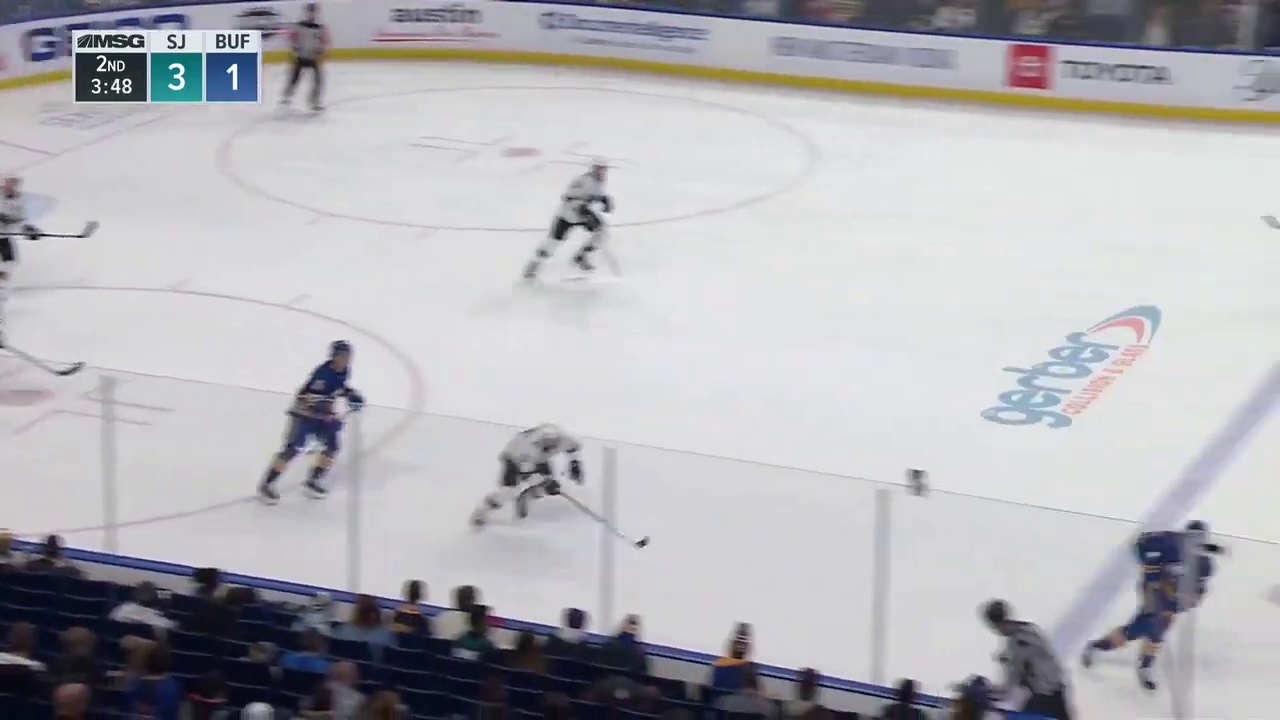hockeyplayer: (1082, 521, 1217, 696), (257, 340, 365, 506), (471, 423, 583, 530), (524, 157, 614, 279), (1, 173, 42, 299)
referee: (946, 599, 1075, 720), (281, 3, 331, 112)
